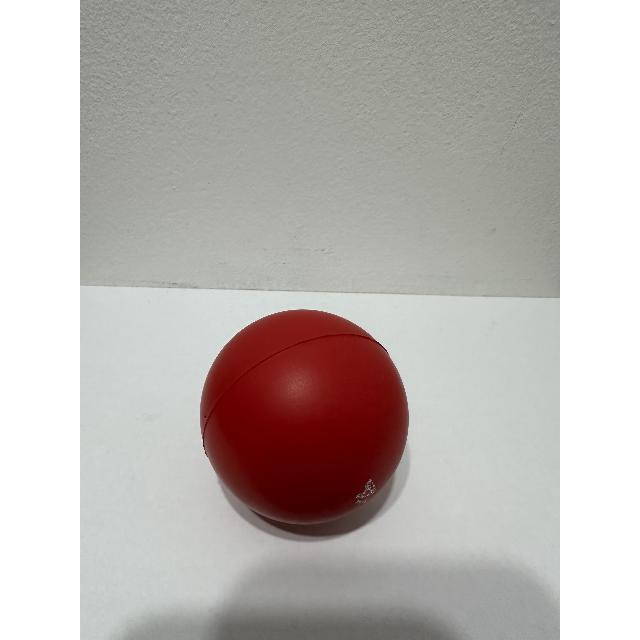red_ball: (195, 277, 431, 567)
